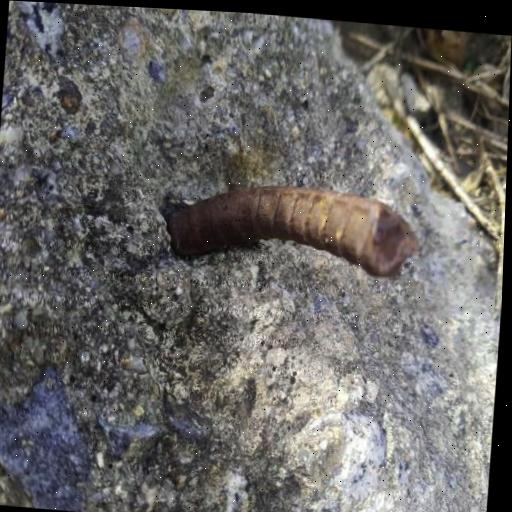exposed_rebar: (167, 185, 417, 277)
